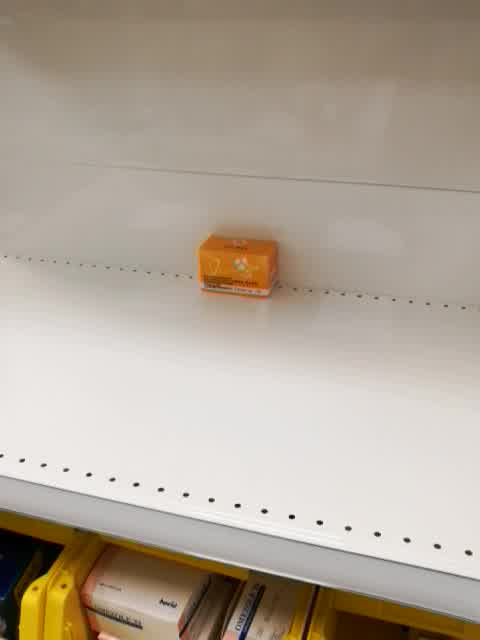jasminetea: (197, 234, 280, 300)
